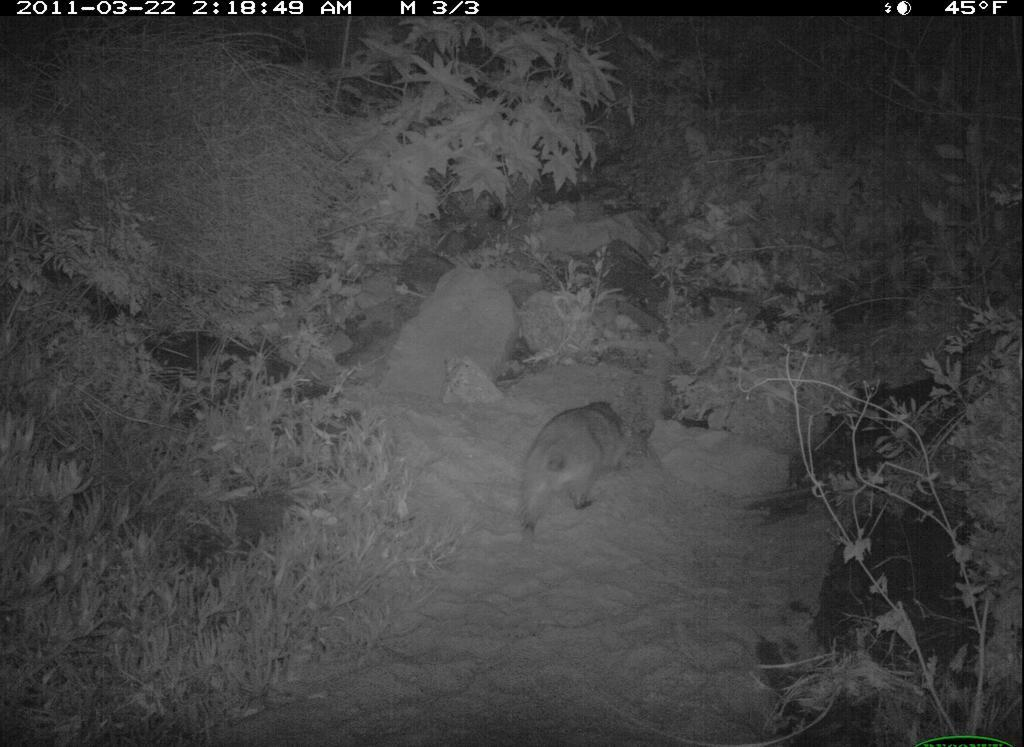raccoon: (502, 396, 655, 546)
